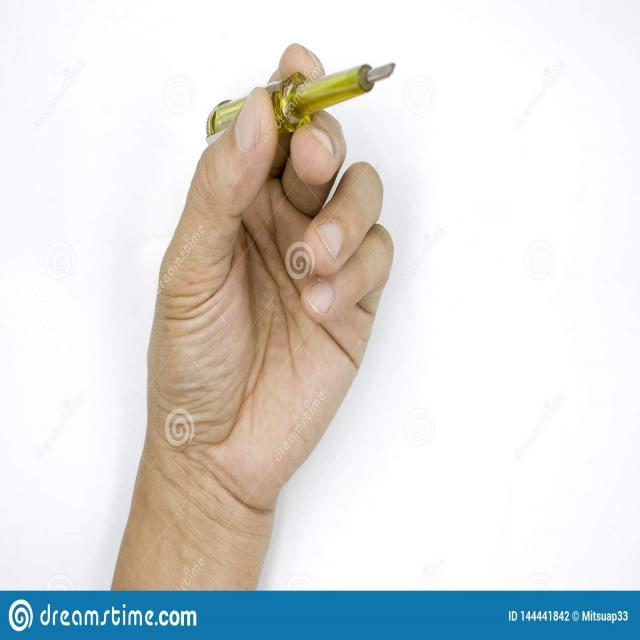screwdriver: (198, 56, 398, 142)
